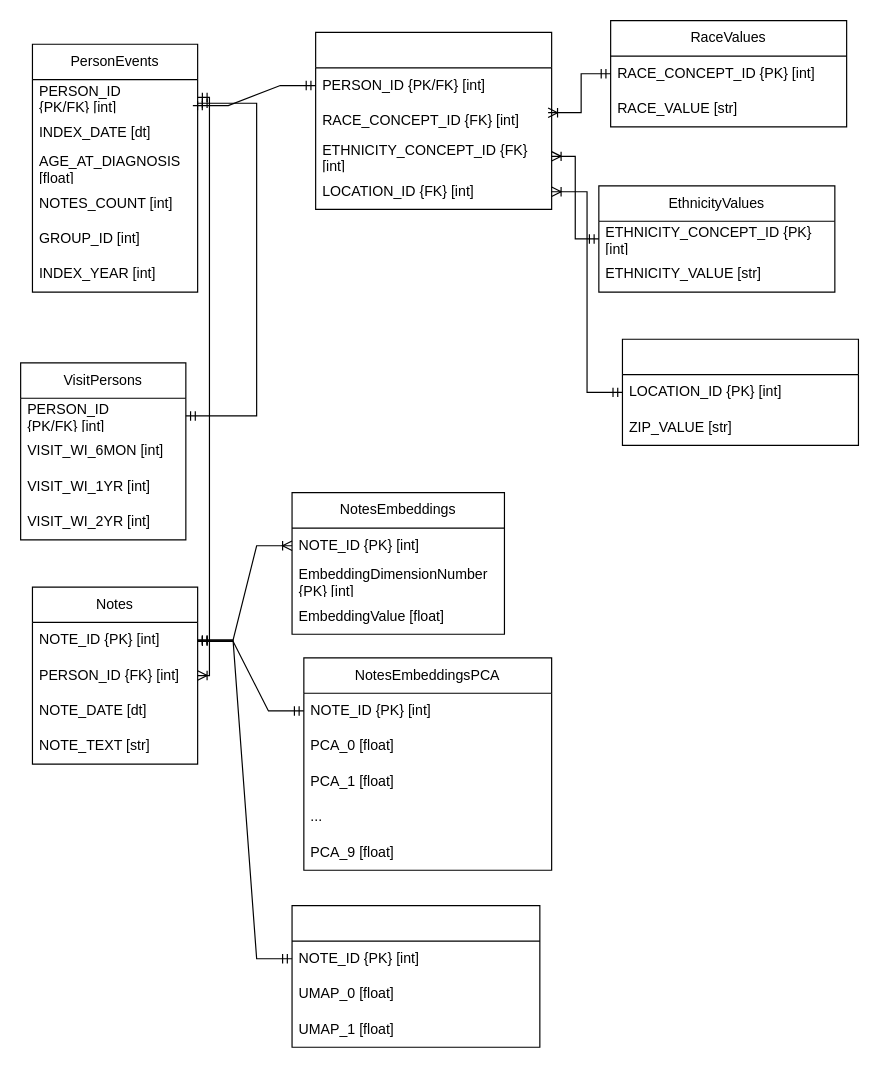
This 879x1068 diagram has some shape labels left out. The box of each missing label's shape, as (x1, y1, x2, y2) in pixels:
Demographics: (314, 31, 552, 209)
LocationValues: (621, 338, 858, 445)
NotesEmbeddingsUMAP: (291, 904, 540, 1047)
